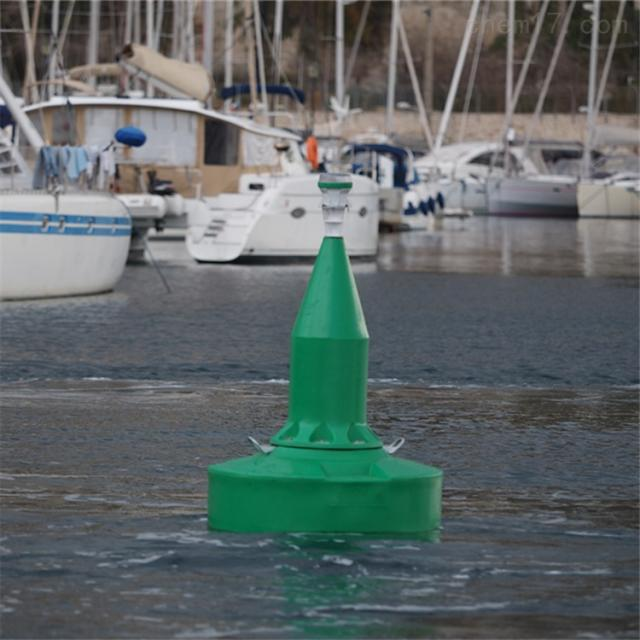buoy: (204, 165, 441, 542)
